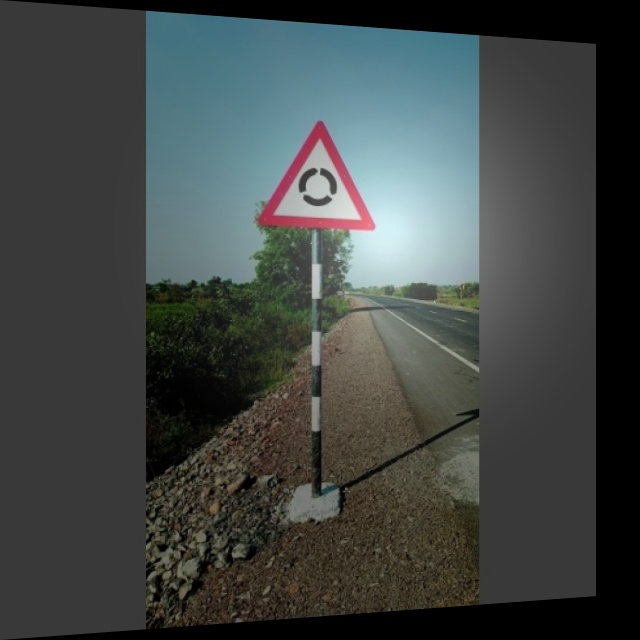Round_About: (260, 116, 378, 231)
